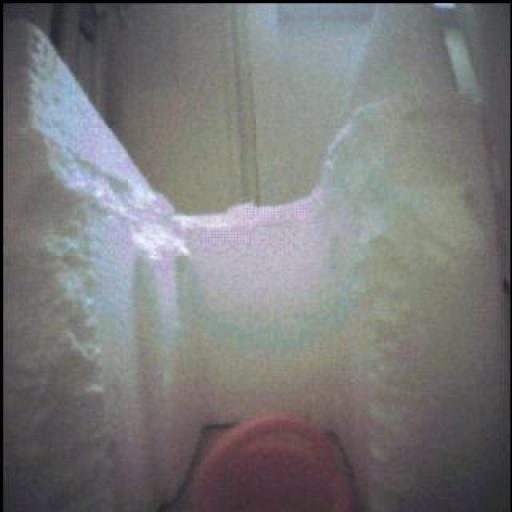Basket: (193, 415, 355, 512)
